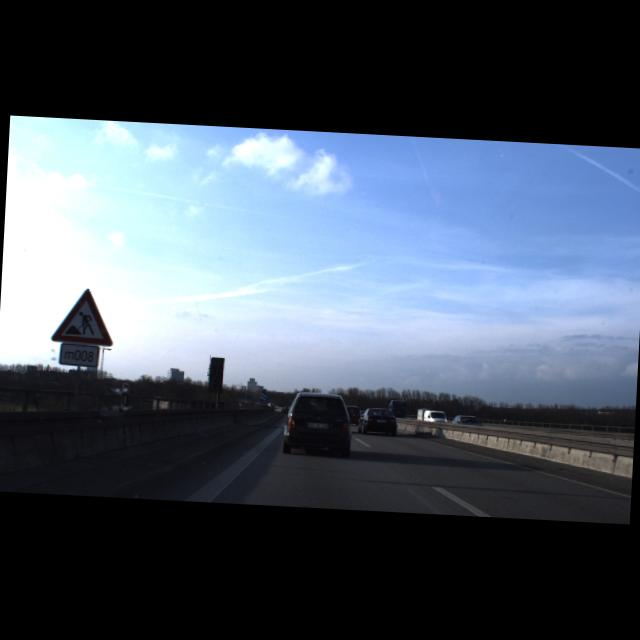danger: (52, 286, 116, 347)
